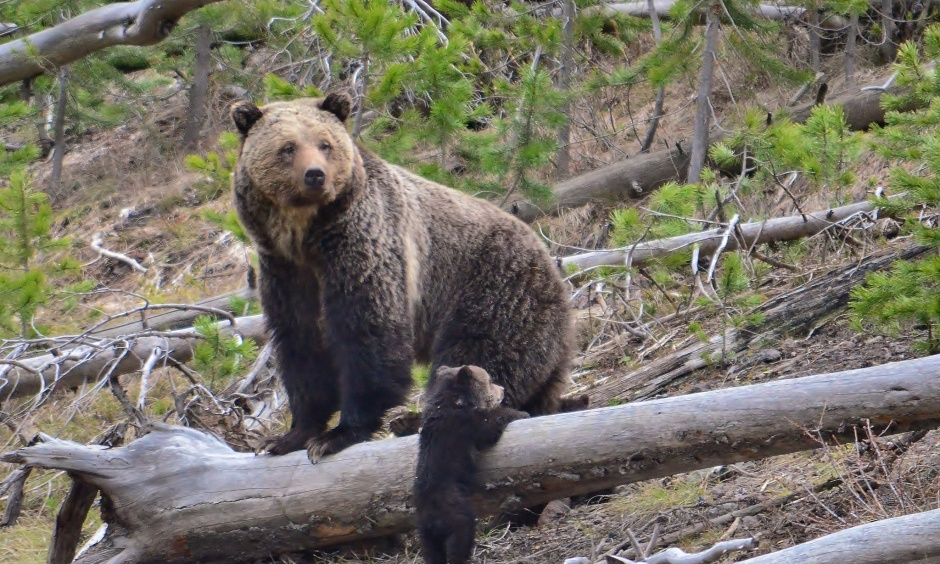bear: (223, 88, 364, 207)
